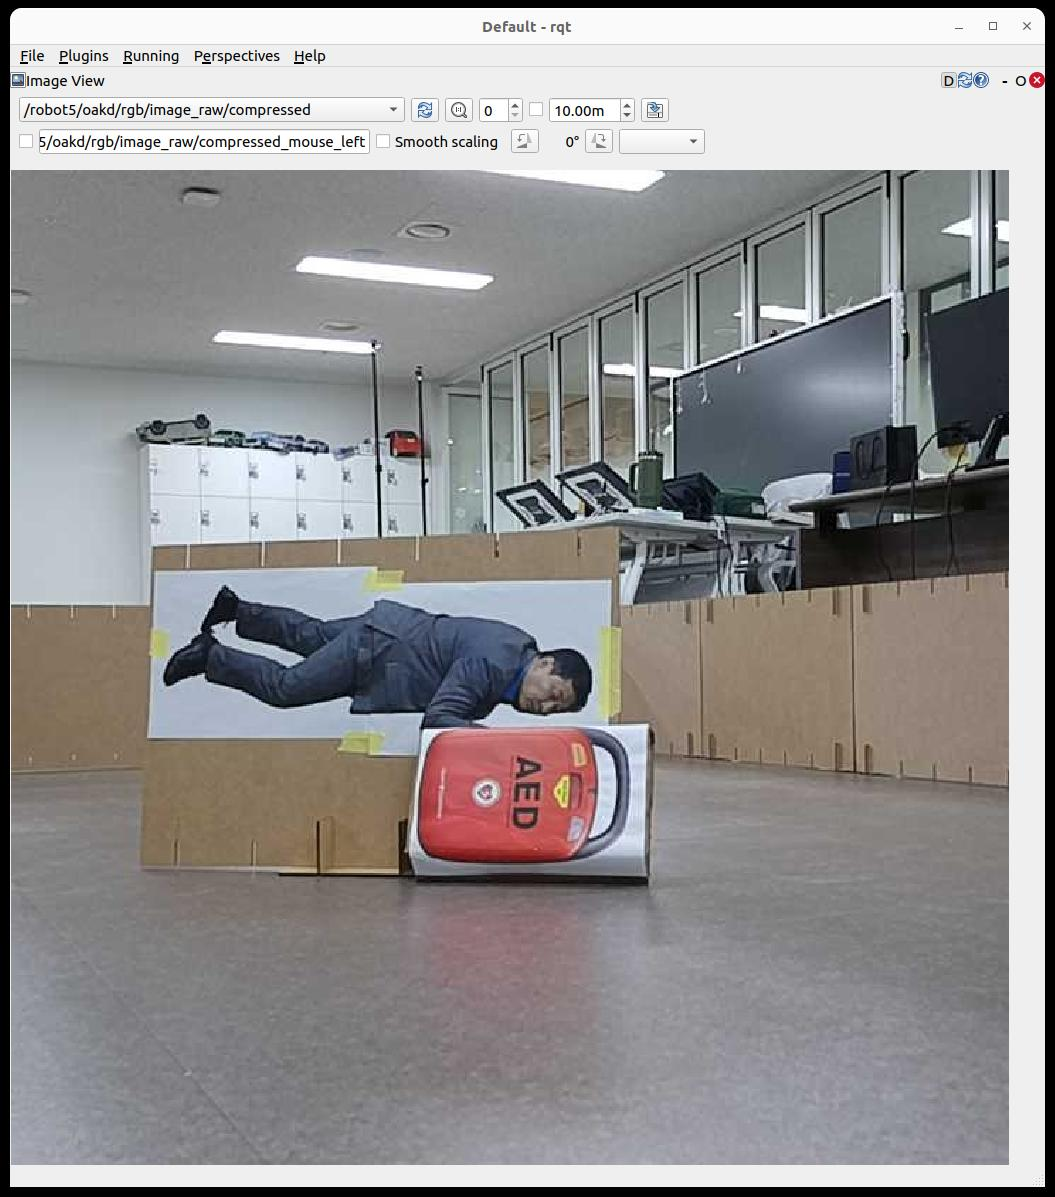AED: (407, 725, 651, 881)
Patient: (164, 588, 590, 727)
